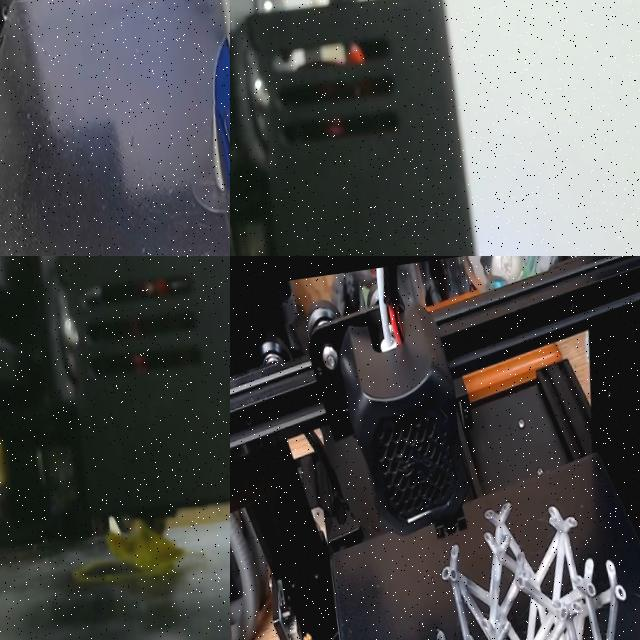spaghetti: (107, 519, 183, 574)
